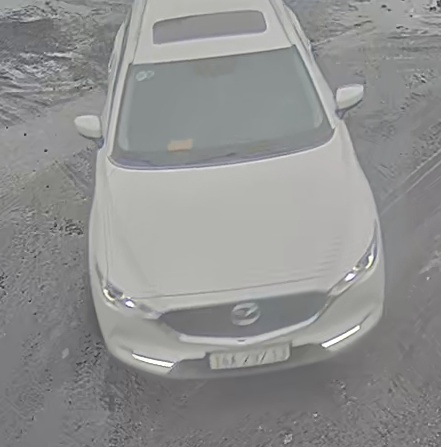vehicle plate: (204, 338, 300, 372)
